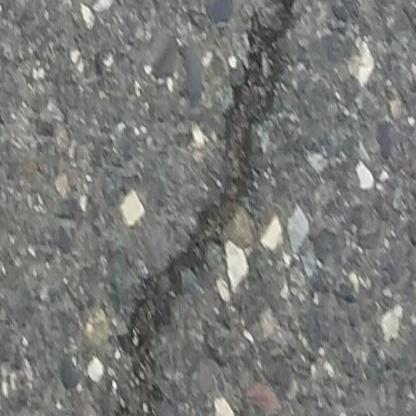Cracks: (105, 0, 311, 416)
